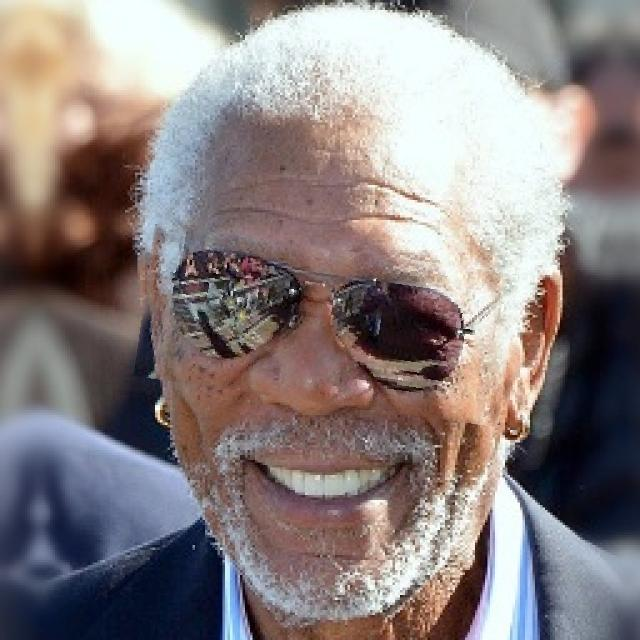glasses: (139, 237, 515, 415)
